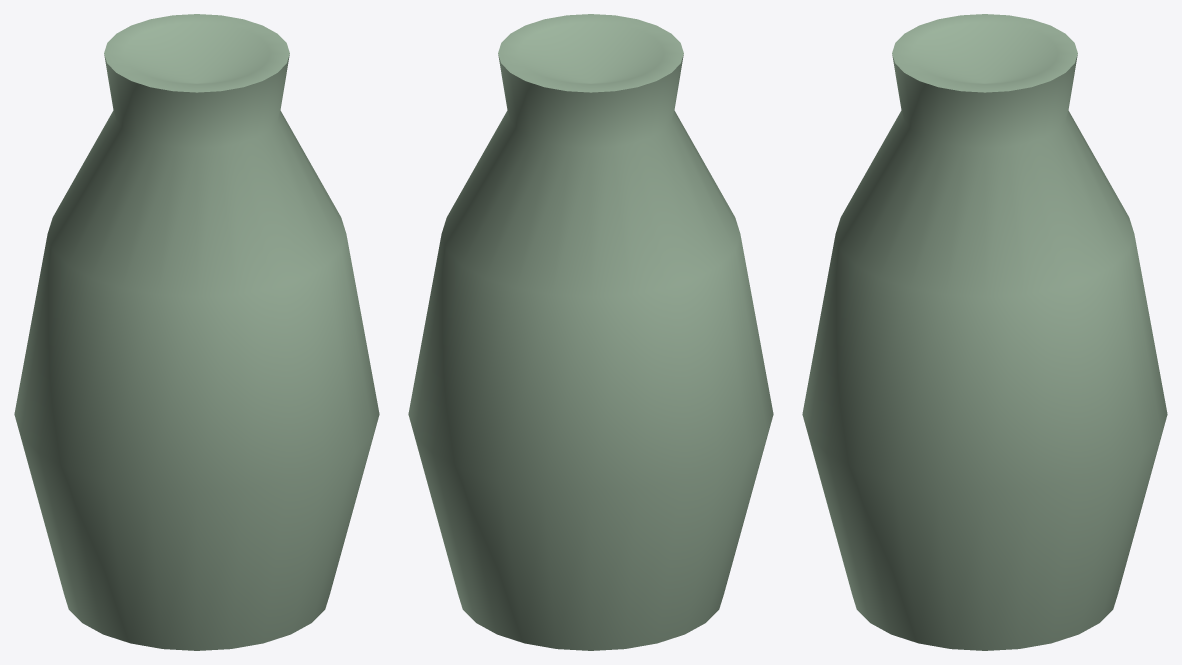
File: vase_bookshelf.fbx
3 views of the same model, side by side, from view 1: azimuth 30°, elevation 25°; view 2: azimuth 150°, elevation 25°; view 3: azimuth 270°, elevation 25° (orthographic).
Visible parts, largest first — view 1: vase_bookshelf; view 2: vase_bookshelf; view 3: vase_bookshelf.
Boxes of the visible parts, box(x1,y1,x2,y2) form: vase_bookshelf: box(14, 14, 379, 650); vase_bookshelf: box(408, 14, 773, 650); vase_bookshelf: box(802, 14, 1167, 650).
Size of the model in its own units: 0.11 by 0.18 by 0.11.
